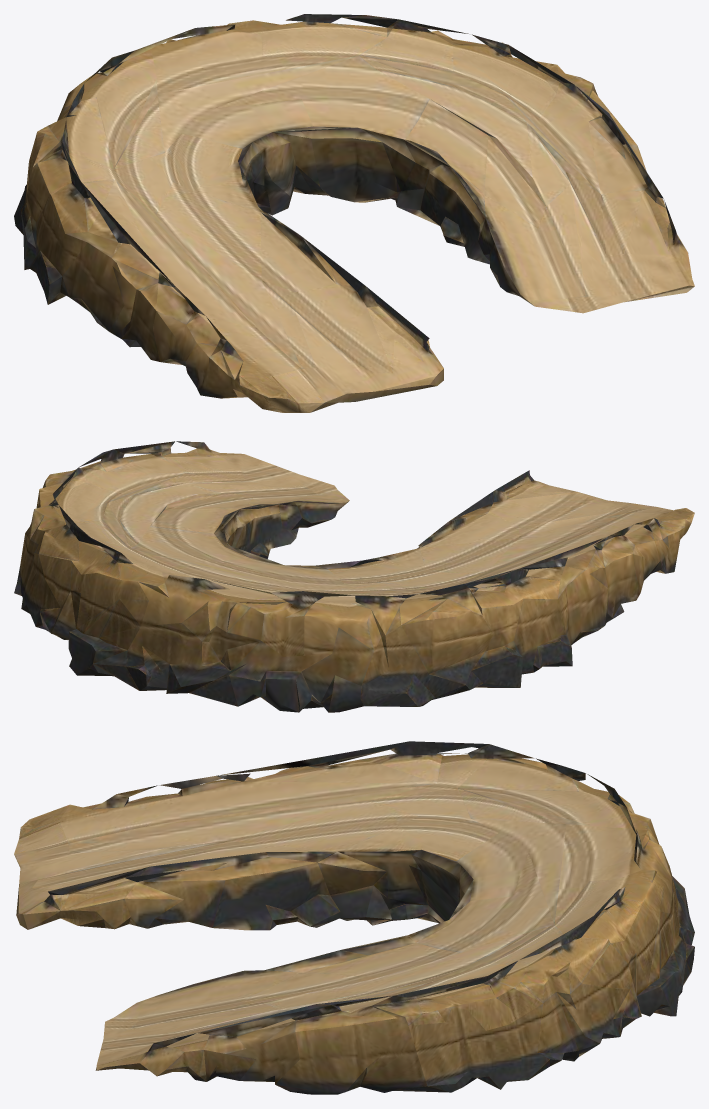
The model's file is hairpin-turn.lod.glb.
The picture shows the model from 3 angles, top to bottom: view 1: azimuth 30°, elevation 25°; view 2: azimuth 150°, elevation 25°; view 3: azimuth 270°, elevation 25°; orthographic projection. The views are drawn at different scales.
Parts seen in each view (by area): view 1: output_unwrapped; view 2: output_unwrapped; view 3: output_unwrapped.
Part boxes in pixels (x1,y1,x2,y2): output_unwrapped: (14, 14, 694, 412); output_unwrapped: (14, 441, 694, 712); output_unwrapped: (14, 741, 694, 1094).
Bounding box in the file's own units: 1.81 × 0.382 × 1.88.
1 material, 1 textured.
